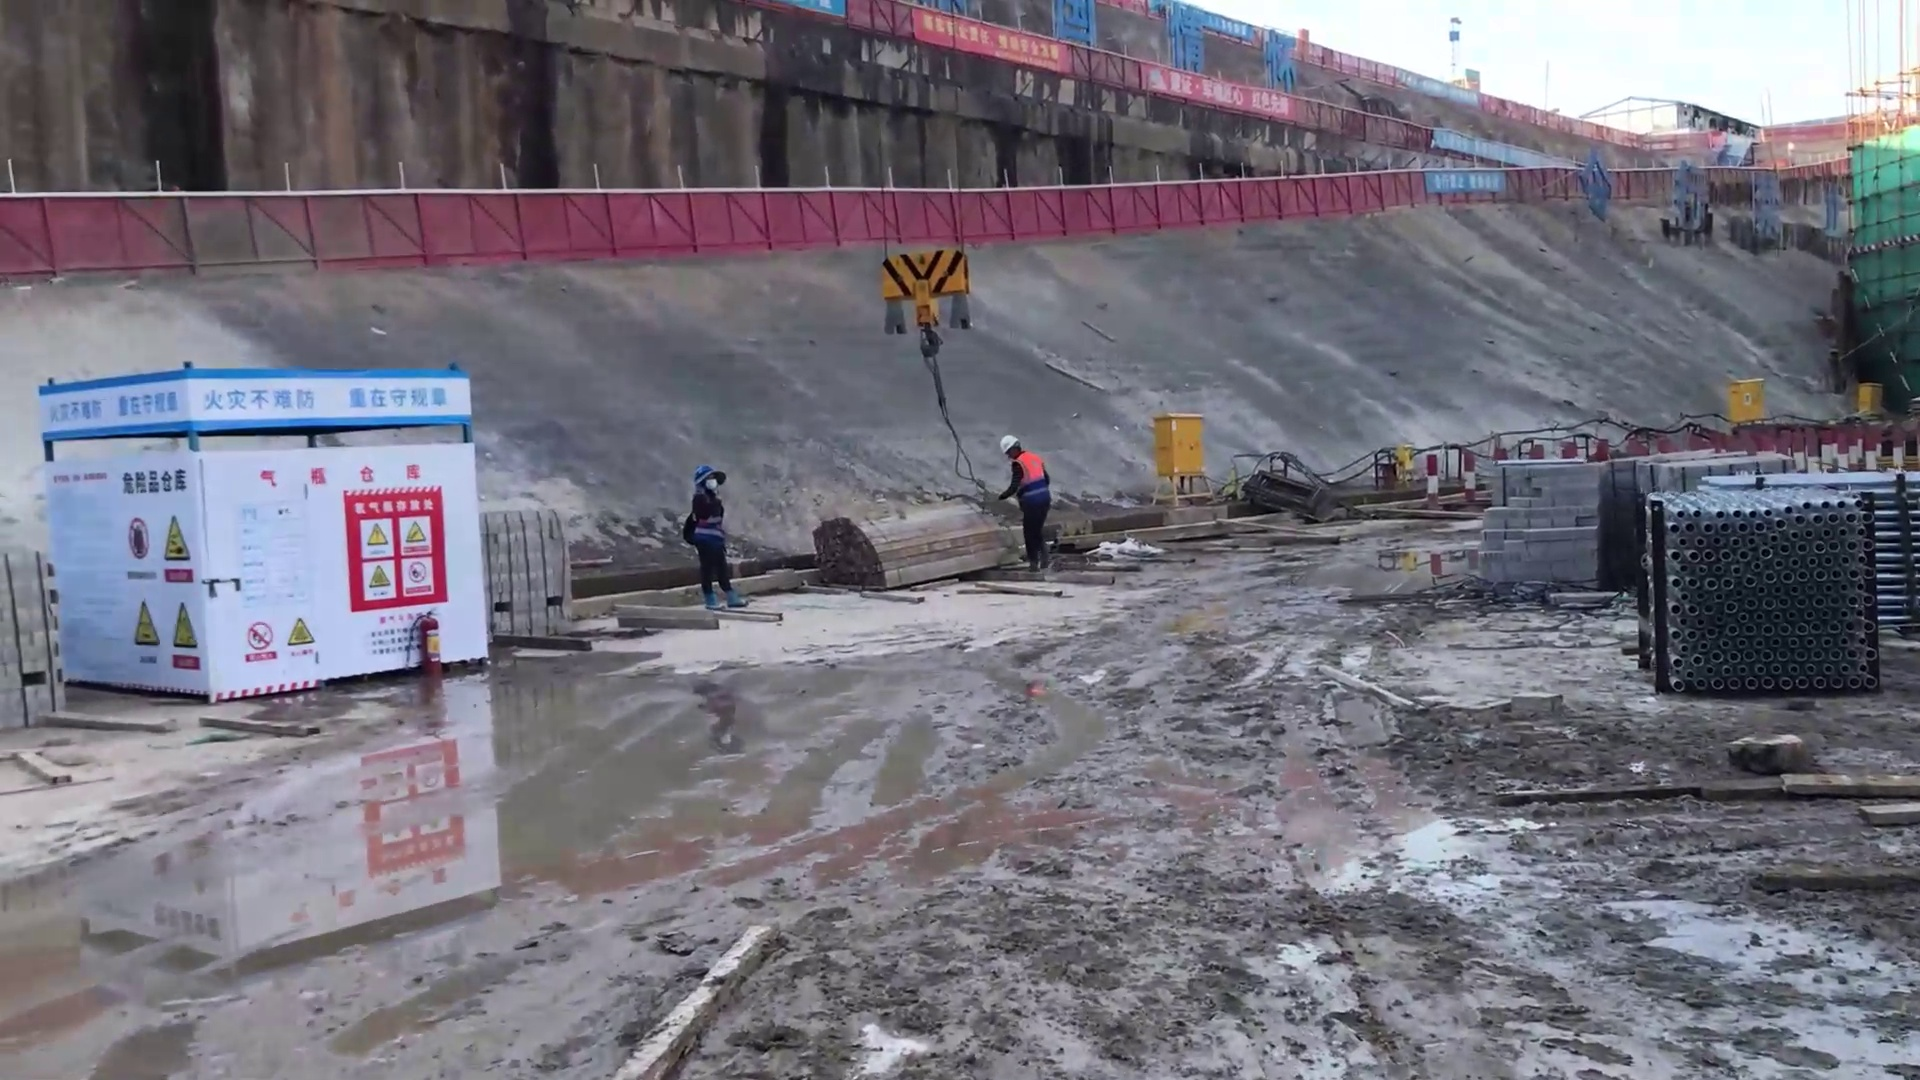brick: (1459, 433, 1619, 608), (477, 487, 574, 641)
ebox: (1153, 409, 1204, 481), (1723, 368, 1777, 424), (1849, 379, 1892, 423)
fence: (1, 173, 1388, 246)
helmet: (682, 465, 729, 493), (1000, 434, 1021, 460)
hook: (886, 241, 971, 345)
person: (675, 462, 750, 613), (990, 431, 1059, 572)
scaffold: (1629, 478, 1884, 711)
slogan: (97, 490, 223, 667), (188, 364, 464, 422), (340, 479, 452, 594), (36, 372, 186, 434), (219, 604, 345, 659)
vest: (684, 496, 727, 546), (1009, 454, 1048, 496)
wood: (821, 508, 980, 594)
